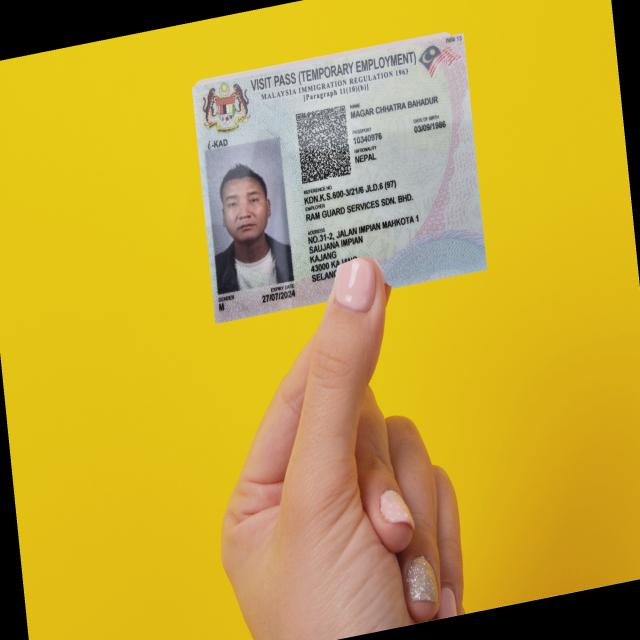ikad-temp: (190, 30, 488, 324)
